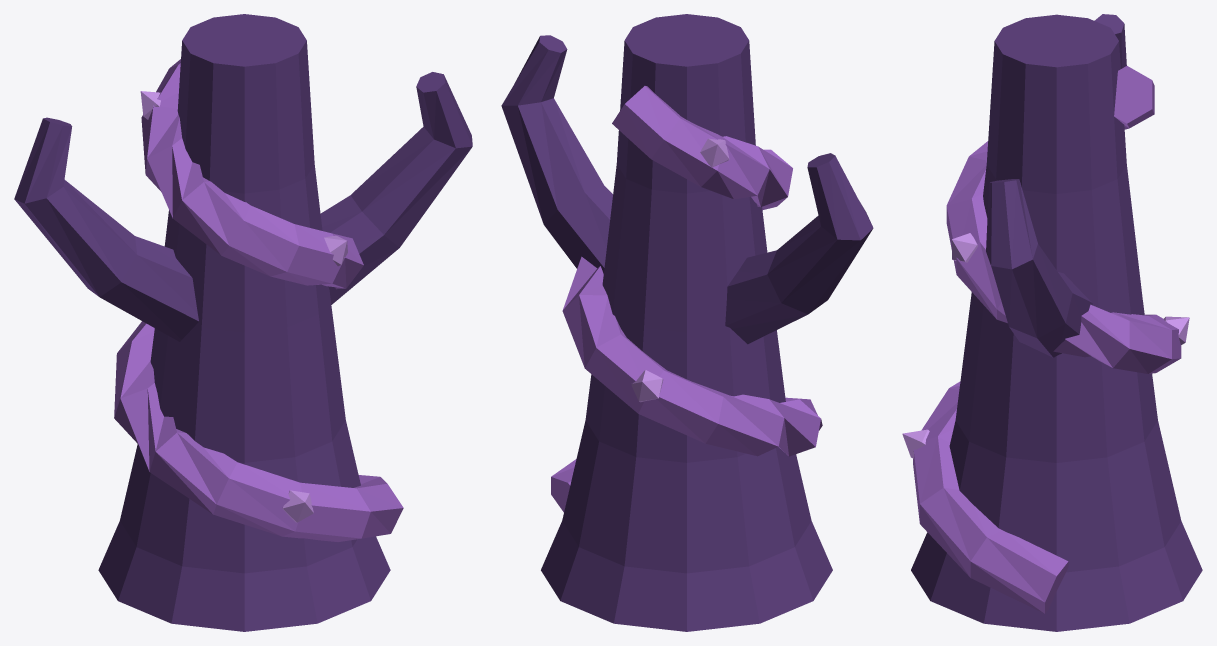
The model's file is AmethystSpiralTrunk.obj.
The picture shows the model from 3 angles, left to right: view 1: azimuth 30°, elevation 25°; view 2: azimuth 150°, elevation 25°; view 3: azimuth 270°, elevation 25°; orthographic projection.
Parts seen in each view (by area): view 1: AmethystSpiralTrunk_AmethystBark, AmethystSpiralTrunk_SpiralRidge, AmethystSpiralTrunk_EmbeddedAmethyst; view 2: AmethystSpiralTrunk_AmethystBark, AmethystSpiralTrunk_SpiralRidge, AmethystSpiralTrunk_EmbeddedAmethyst; view 3: AmethystSpiralTrunk_AmethystBark, AmethystSpiralTrunk_SpiralRidge, AmethystSpiralTrunk_EmbeddedAmethyst.
Part boxes in pixels (<box>): AmethystSpiralTrunk_AmethystBark: <box>14,14,472,631</box>; AmethystSpiralTrunk_SpiralRidge: <box>114,59,403,541</box>; AmethystSpiralTrunk_EmbeddedAmethyst: <box>140,91,347,522</box>; AmethystSpiralTrunk_AmethystBark: <box>501,14,873,631</box>; AmethystSpiralTrunk_SpiralRidge: <box>551,86,822,512</box>; AmethystSpiralTrunk_EmbeddedAmethyst: <box>631,138,729,402</box>; AmethystSpiralTrunk_AmethystBark: <box>911,14,1202,631</box>; AmethystSpiralTrunk_SpiralRidge: <box>913,66,1181,613</box>; AmethystSpiralTrunk_EmbeddedAmethyst: <box>902,233,1189,458</box>.
Size of the model in its own units: 2.42 by 3 by 1.54.
